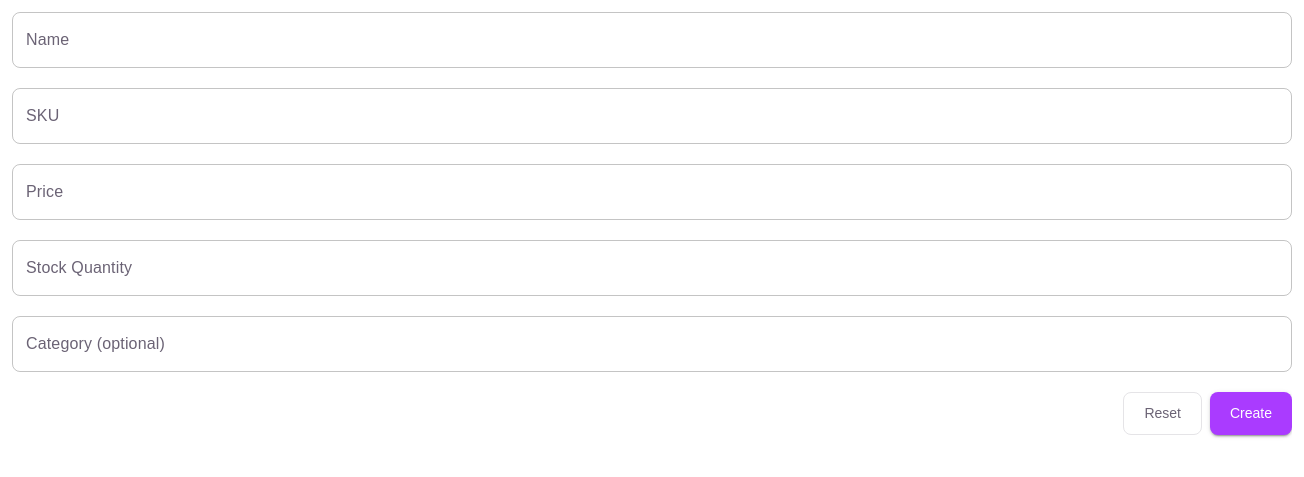
it: ProductForm › should show error for negative stock quantity
Type "Test Product" into the field labelled "Name". click: {"x": 652, "y": 40}
box: x1=12 y1=12 x2=1292 y2=68
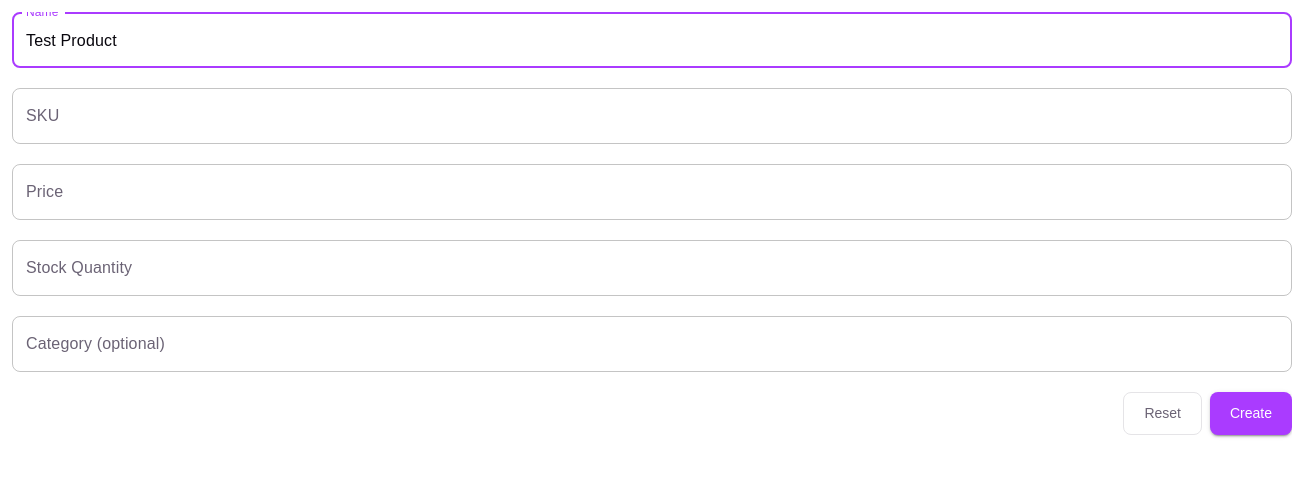
Type "TEST-001" into the field labelled "SKU". click: {"x": 652, "y": 116}
box: x1=12 y1=88 x2=1292 y2=144
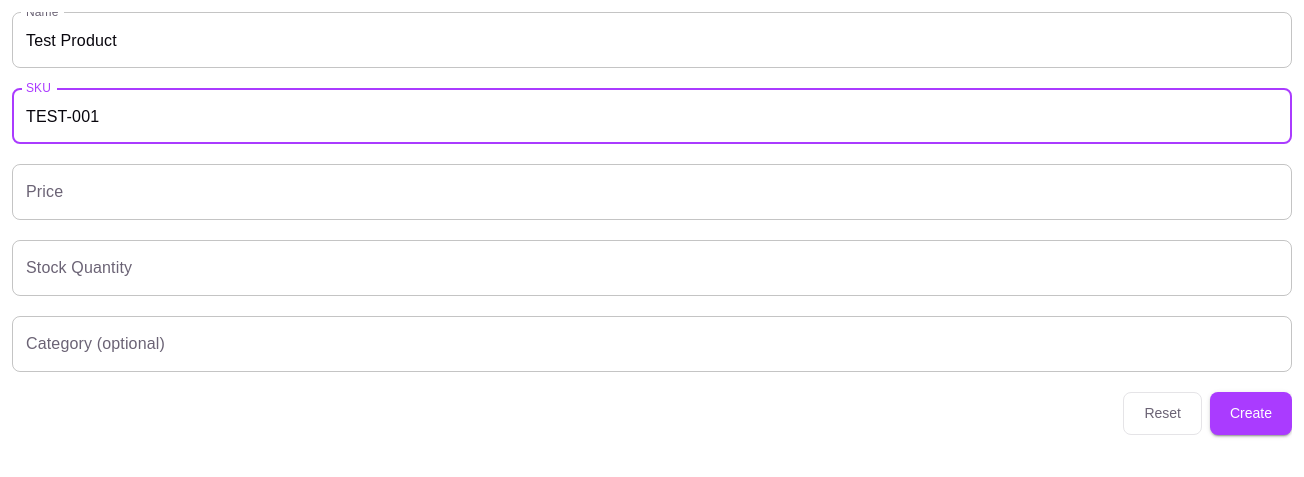
Type "9.99" into the number field labelled "Price". click: {"x": 652, "y": 192}
box: x1=12 y1=164 x2=1292 y2=220
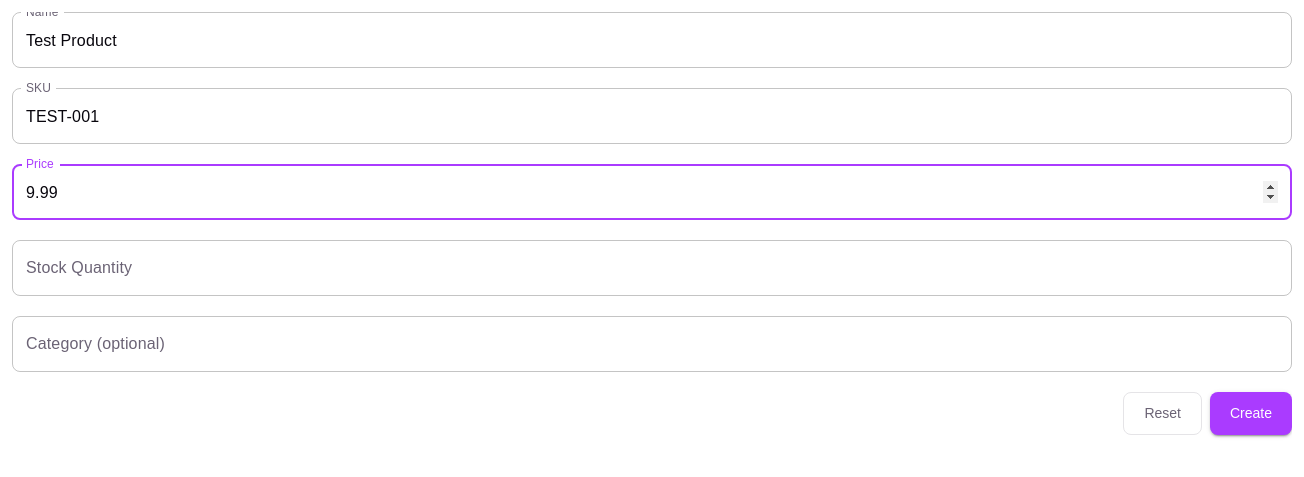
Type "-10" into the number field labelled "Stock Quantity". click: {"x": 652, "y": 268}
box: x1=12 y1=240 x2=1292 y2=296
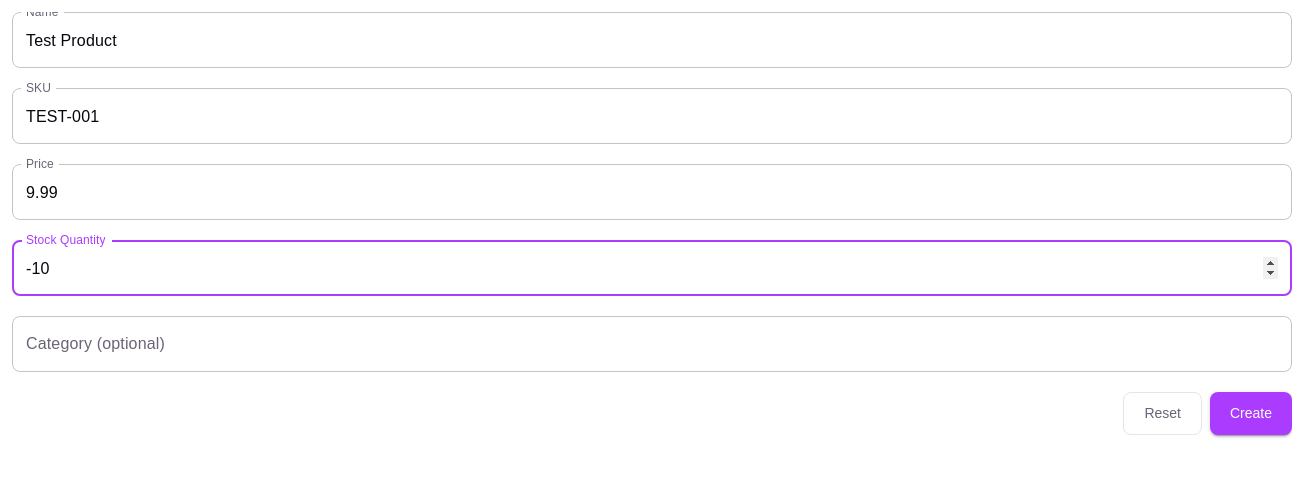
Click the button "Create". click: {"x": 1251, "y": 413}
box: x1=1210 y1=392 x2=1292 y2=434
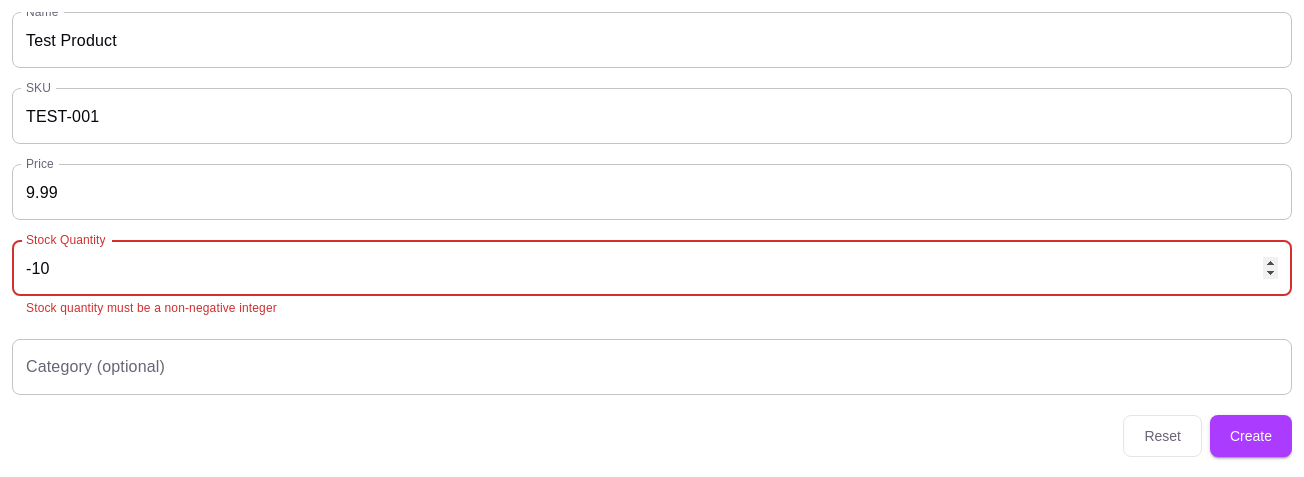
Check: the text "Stock quantity must be a non-negative integer" is shown, box x1=26 y1=301 x2=277 y2=315
